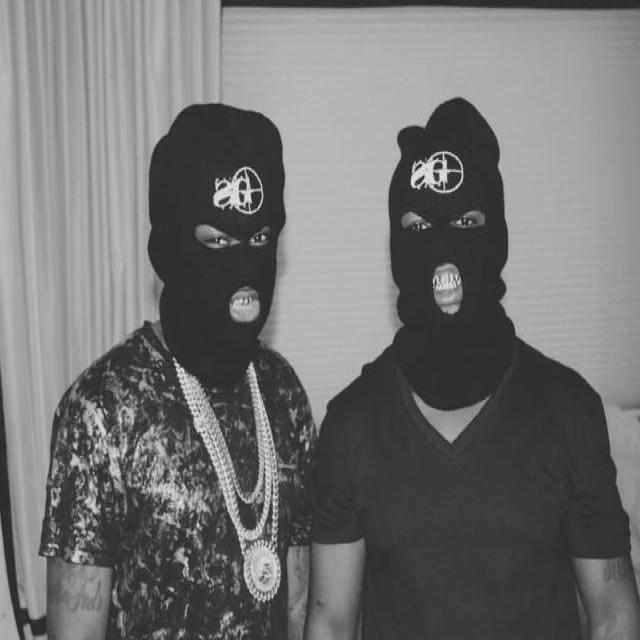6_pasamontana: (147, 103, 287, 388)
